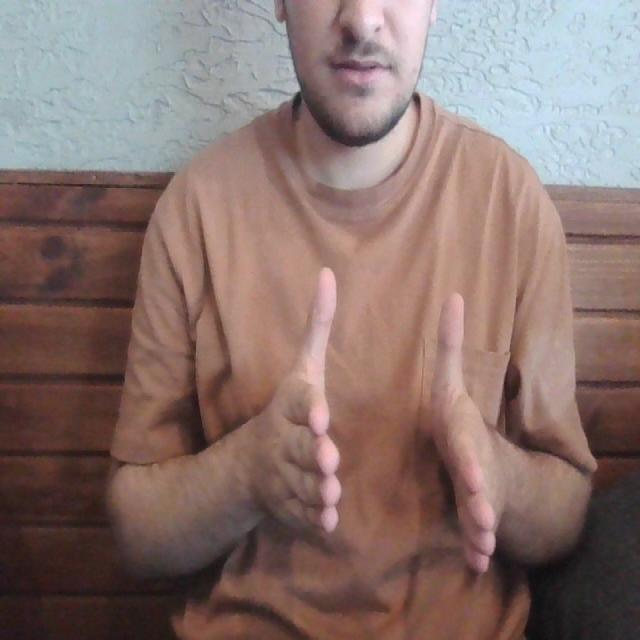Nasil: (246, 249, 510, 595)
